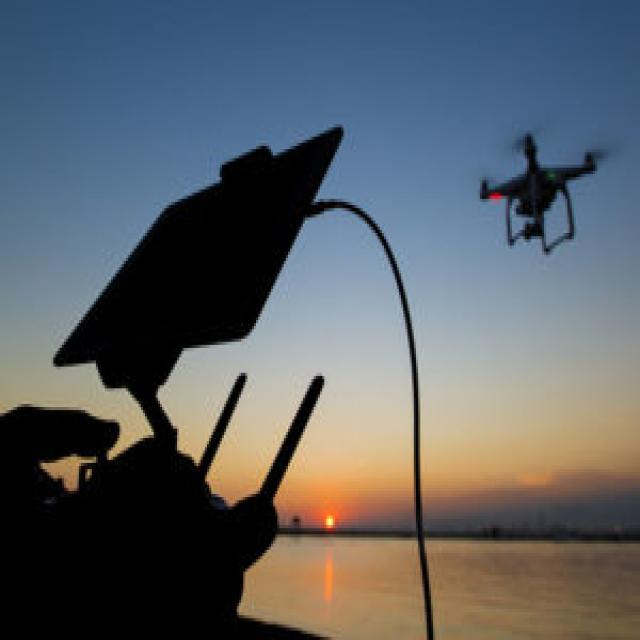drone: (467, 118, 612, 252)
